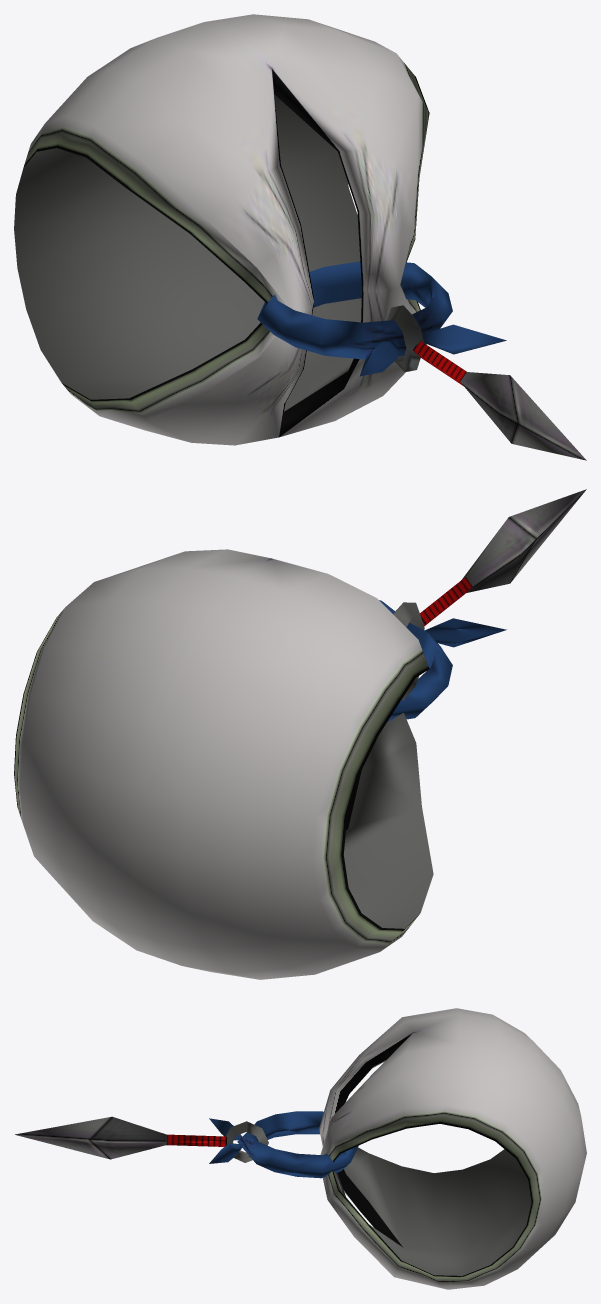
File: kunai_bomb_1_base.fbx
3 views of the same model, one above another, from view 1: azimuth 30°, elevation 25°; view 2: azimuth 150°, elevation 25°; view 3: azimuth 270°, elevation 25° (orthographic). The views are drawn at different scales.
Parts seen in each view (by area): view 1: MilkshapeExported2, MilkshapeExported1; view 2: MilkshapeExported2, MilkshapeExported1; view 3: MilkshapeExported2, MilkshapeExported1.
Boxes of the visible parts, x1,y1,x2,y2 form: MilkshapeExported2: (14, 14, 506, 445); MilkshapeExported1: (387, 305, 586, 460); MilkshapeExported2: (14, 549, 506, 979); MilkshapeExported1: (393, 489, 586, 629); MilkshapeExported2: (209, 1008, 586, 1289); MilkshapeExported1: (15, 1116, 268, 1162).
Size of the model in its own units: 29.8 by 31.85 by 67.83.
2 materials, 2 textured.
